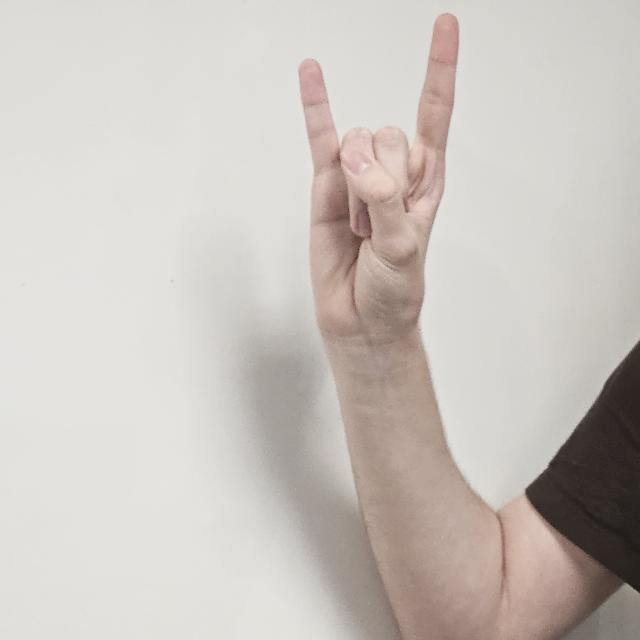L: (293, 11, 459, 386)
